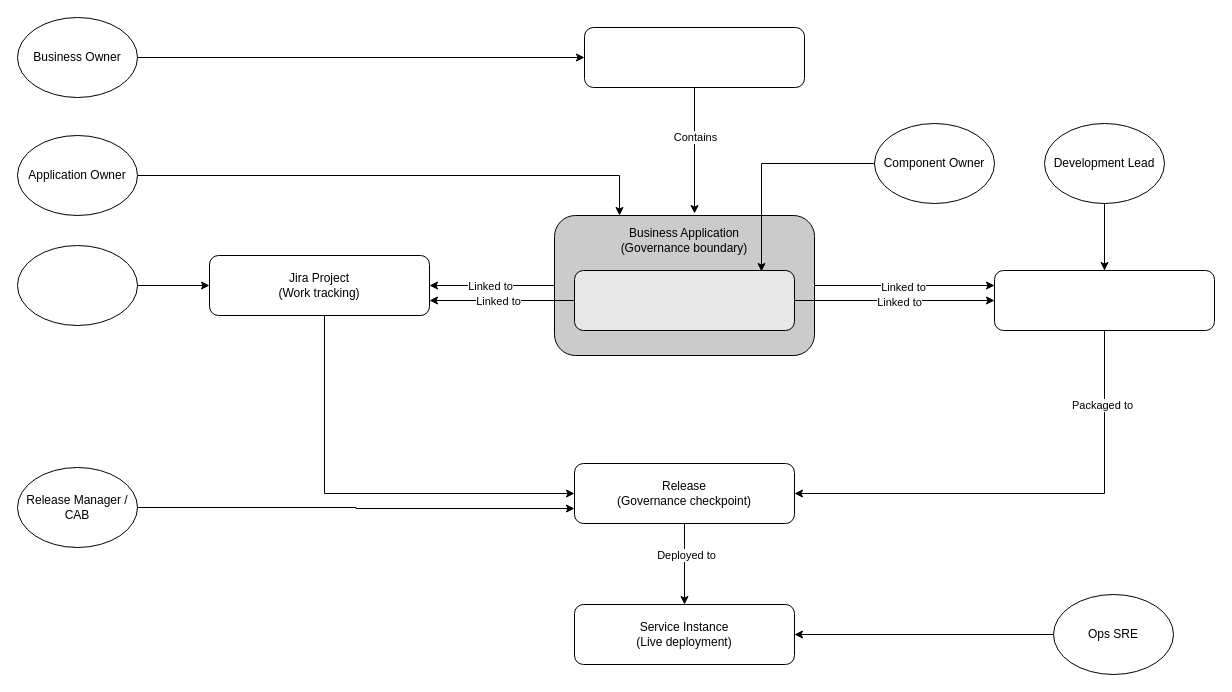
The diagram is 1232 pixels wide and 692 high, and some of its shapes have lost their labels. The shapes that lost their labels are listed below. From the top down, each one's box as (x1, y1, x2, y2) in pixels, then its label:
(584, 26, 804, 88): Product (Portfolio grouping)
(16, 244, 138, 326): Scrum Master
(574, 270, 794, 330): Application Component (Optional sub-boundary)
(994, 270, 1214, 330): Code Repository (Source artifacts)
